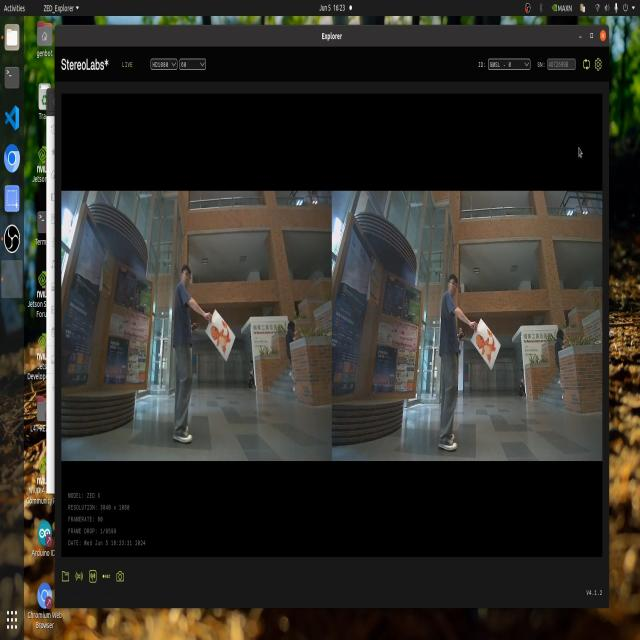red: (201, 305, 240, 353), (475, 316, 504, 371)
